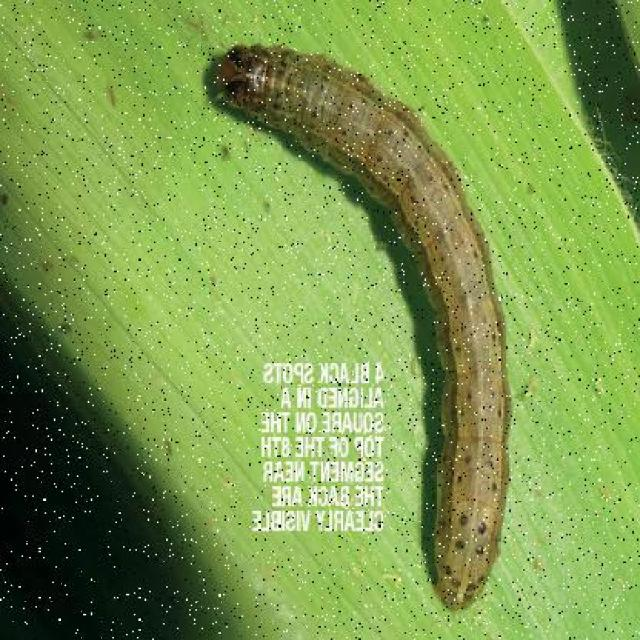Plaga: (196, 29, 518, 620)
